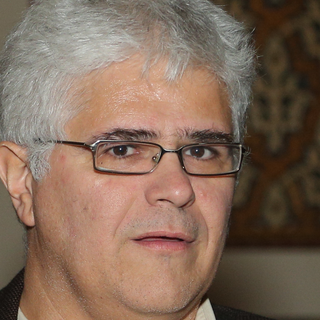eye: (99, 141, 144, 161), (181, 142, 220, 162)
